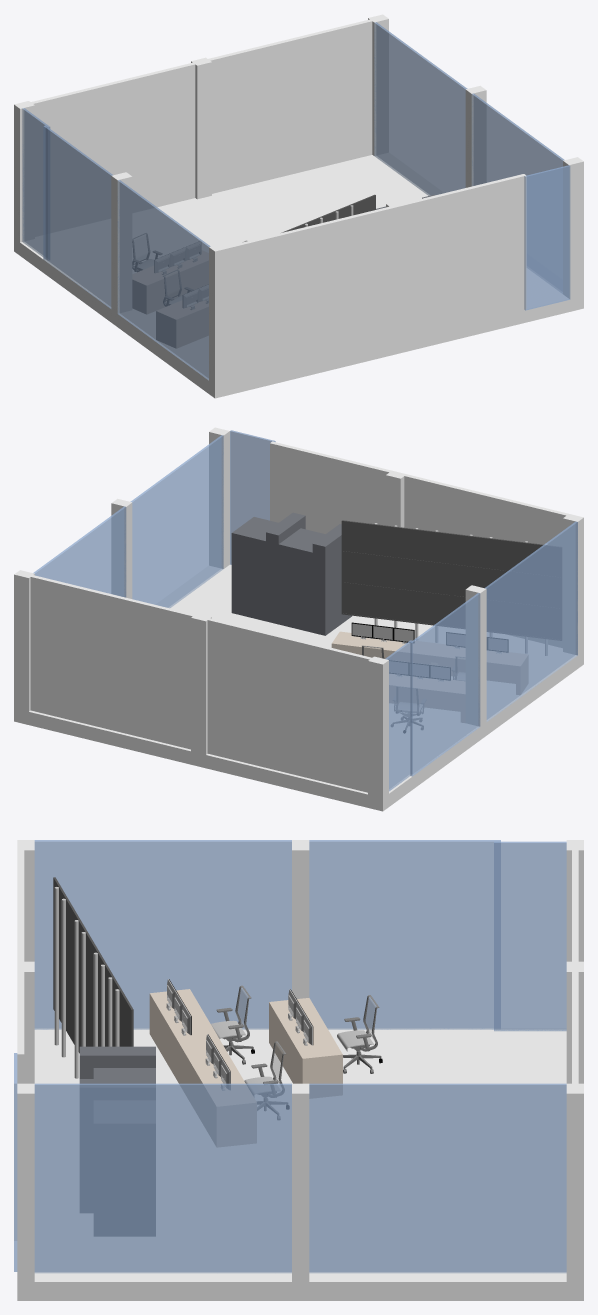
The model's file is 3D-room.gltf.
3 views of the same model, one above another, from view 1: azimuth 30°, elevation 25°; view 2: azimuth 150°, elevation 25°; view 3: azimuth 270°, elevation 25° (orthographic). The views are drawn at different scales.
Parts seen in each view (by area): view 1: 3D room; view 2: 3D room; view 3: 3D room.
Boxes of the visible parts, x1=… form: 3D room: x1=14, y1=14, x2=583, y2=398; 3D room: x1=14, y1=427, x2=583, y2=811; 3D room: x1=14, y1=840, x2=583, y2=1300.
Size of the model in its own units: 8.67 by 3.3 by 8.23.
